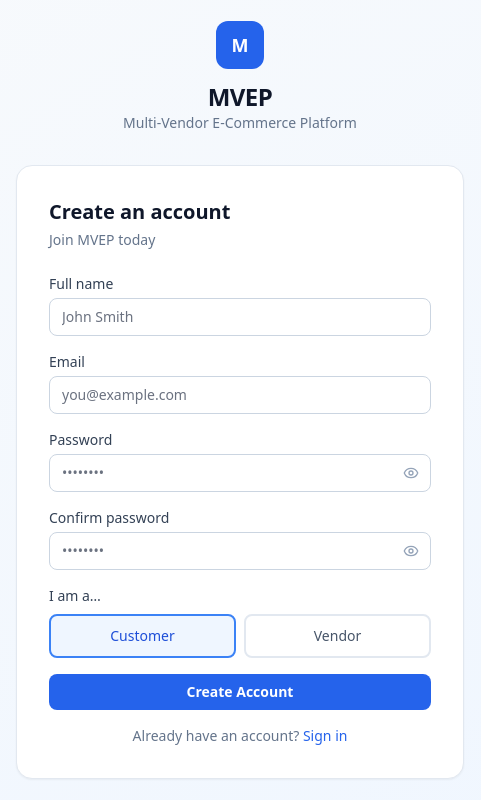
RegisterPage › shows a validation error when passwords do not match
In the field with placeholder "John Smith": (240, 317) [49, 298, 431, 336], type "New User"
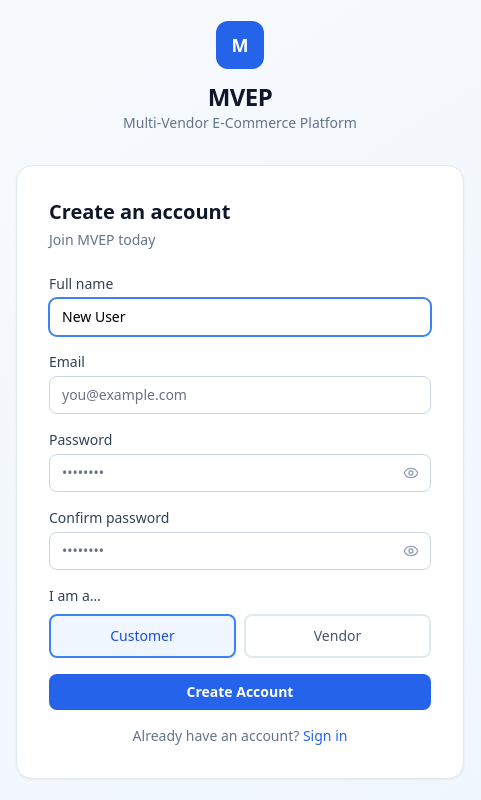
In the field with placeholder "you@example.com": (240, 395) [49, 376, 431, 414], type "newuser@example.com"
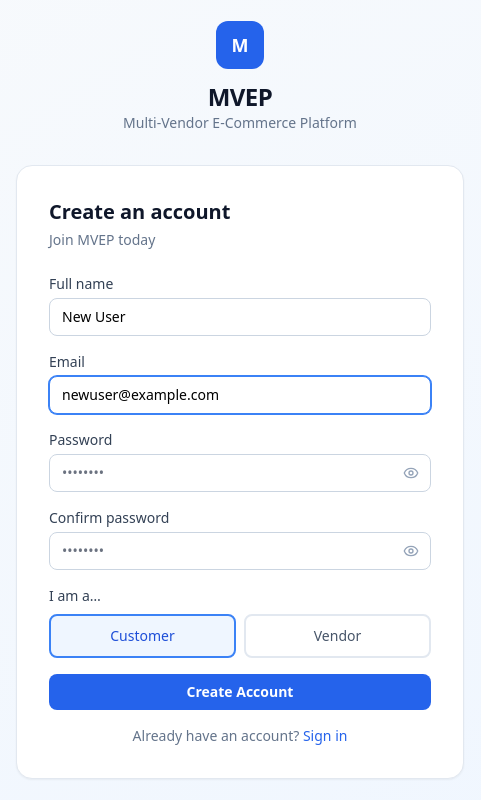
In the 1st password field with placeholder "••••••••": (240, 473) [49, 454, 431, 492], type "password123"
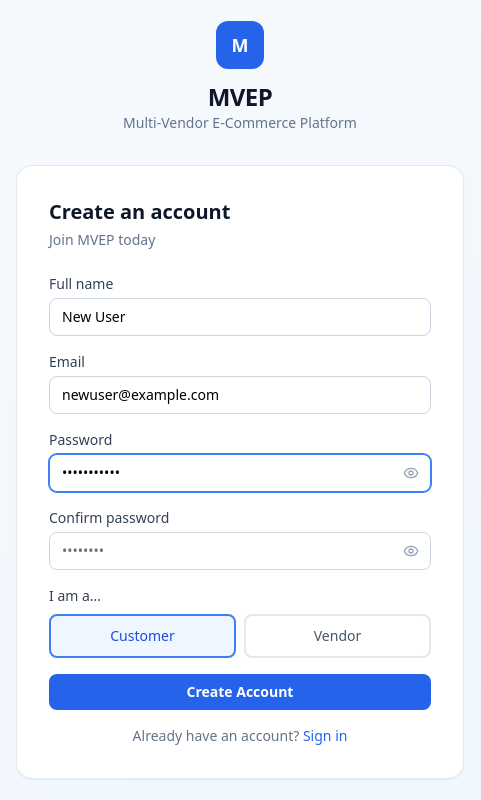
In the password field with placeholder "••••••••": (240, 551) [49, 532, 431, 570], type "different456"
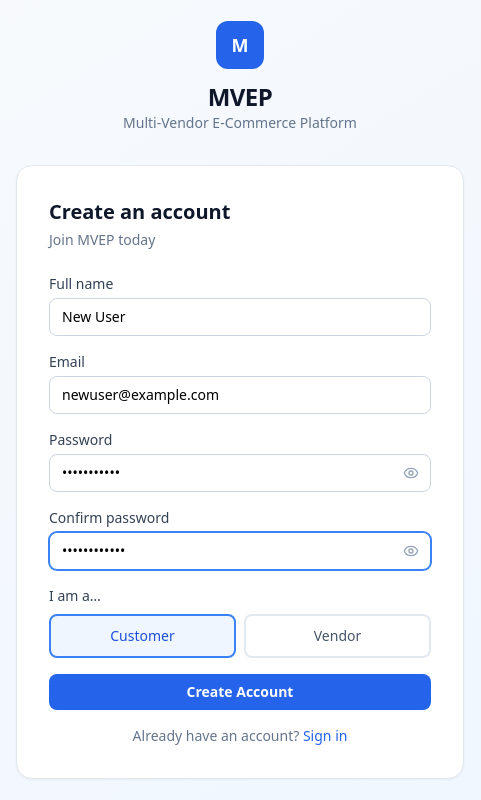
Click the button "Create Account": (240, 692) [49, 674, 431, 710]
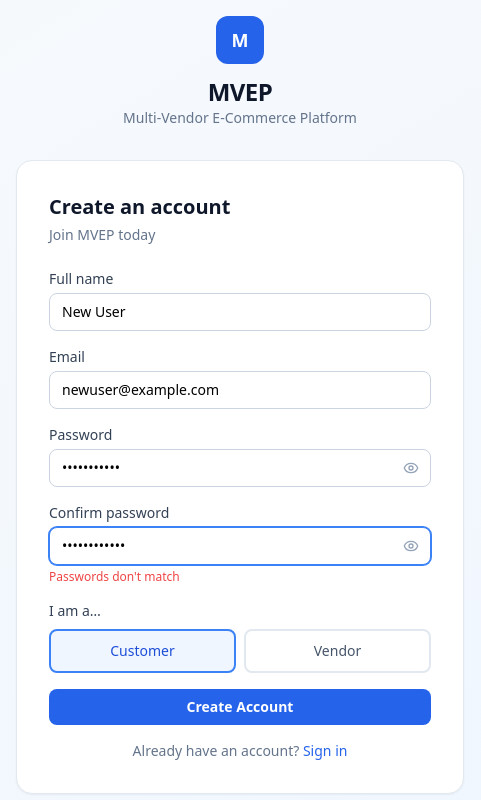
Now the text "Passwords don't match" is shown, box [49, 568, 180, 585]
